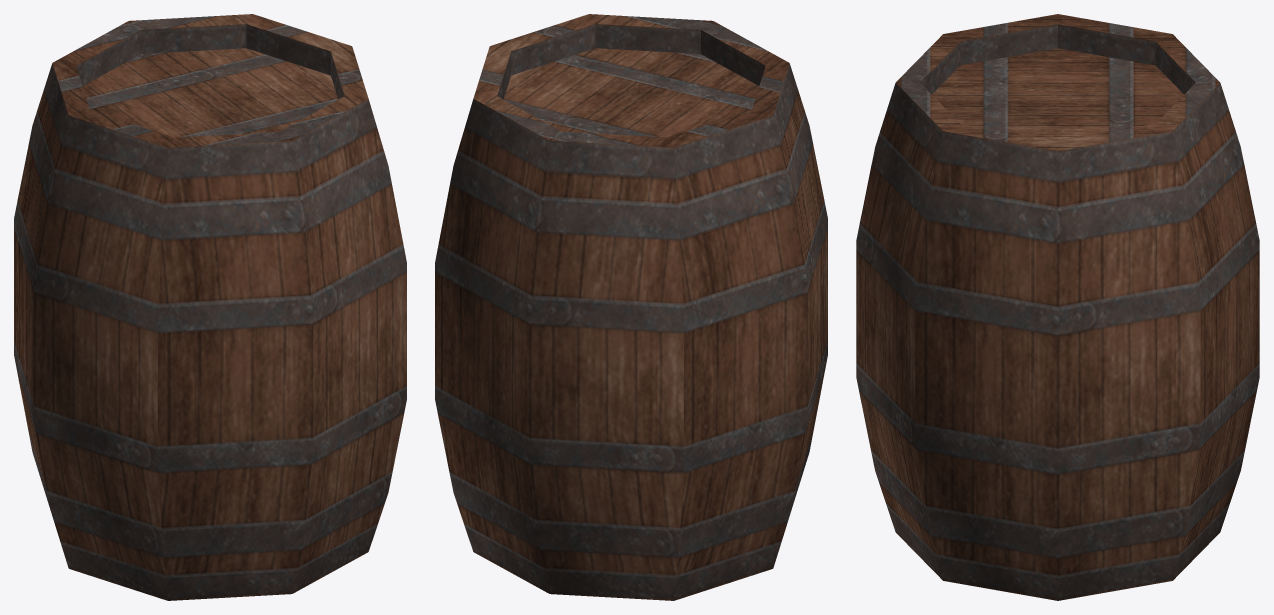
The model's file is fici.obj.
3 renders of one model, left to right at view 1: azimuth 30°, elevation 25°; view 2: azimuth 150°, elevation 25°; view 3: azimuth 270°, elevation 25°, orthographic.
Visible parts, largest first — view 1: Cylinder001; view 2: Cylinder001; view 3: Cylinder001.
Part boxes in pixels (left/top/right/bottom): Cylinder001: left=14, top=14, right=406, bottom=600; Cylinder001: left=435, top=14, right=827, bottom=600; Cylinder001: left=856, top=14, right=1259, bottom=600.
Bounding box in the file's own units: 56.74 × 69.81 × 56.74.
